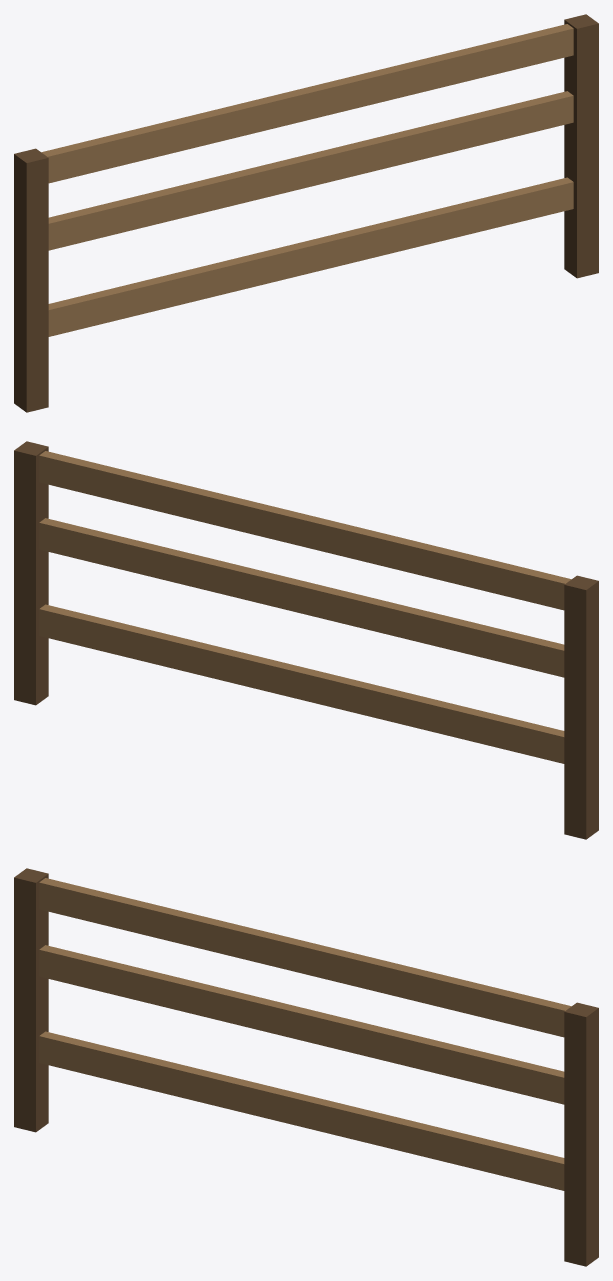
File: cerca_madeira.glb
The picture shows the model from 3 angles, top to bottom: view 1: azimuth 30°, elevation 25°; view 2: azimuth 150°, elevation 25°; view 3: azimuth 330°, elevation 25°; orthographic projection.
Parts seen in each view (by area): view 1: cerca_madeira; view 2: cerca_madeira; view 3: cerca_madeira.
Part boxes in pixels (x1,y1,x2,y2): cerca_madeira: [14, 14, 598, 412]; cerca_madeira: [14, 441, 598, 839]; cerca_madeira: [14, 868, 598, 1266].
Size of the model in its own units: 3.12 by 1.3 by 0.12.
